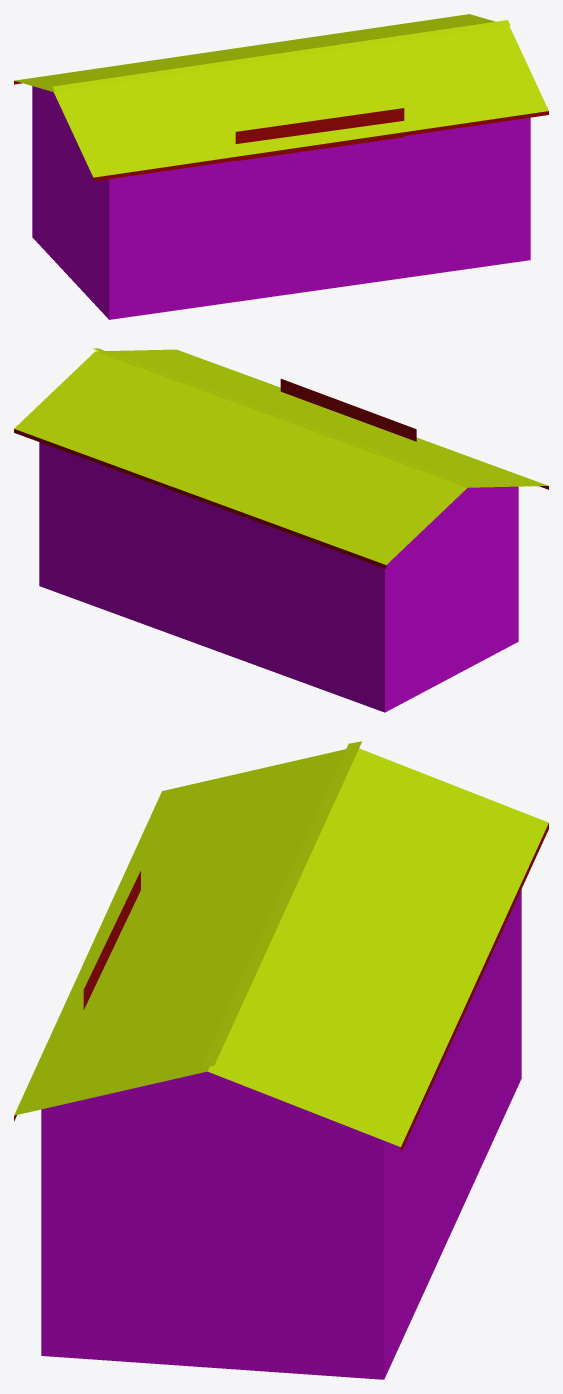
File: bgj_403.glb
3 renders of one model, top to bottom at view 1: azimuth 30°, elevation 25°; view 2: azimuth 150°, elevation 25°; view 3: azimuth 270°, elevation 25°, orthographic. The views are drawn at different scales.
Parts seen in each view (by area): view 1: bgj_403; view 2: bgj_403; view 3: bgj_403.
Part boxes in pixels (x1,y1,x2,y2): bgj_403: [14, 14, 548, 319]; bgj_403: [14, 348, 548, 712]; bgj_403: [14, 741, 548, 1379].
Bounding box in the file's own units: 14.45 × 5.95 × 9.17.
